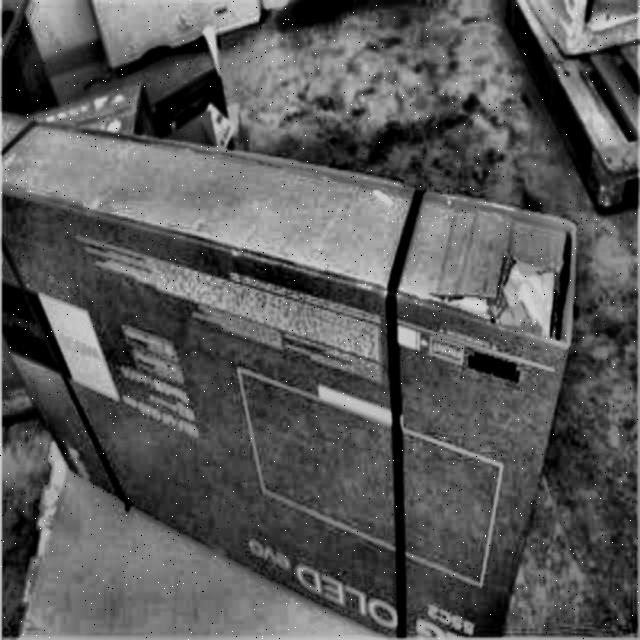box: (1, 98, 587, 640)
hole: (432, 244, 572, 352)
